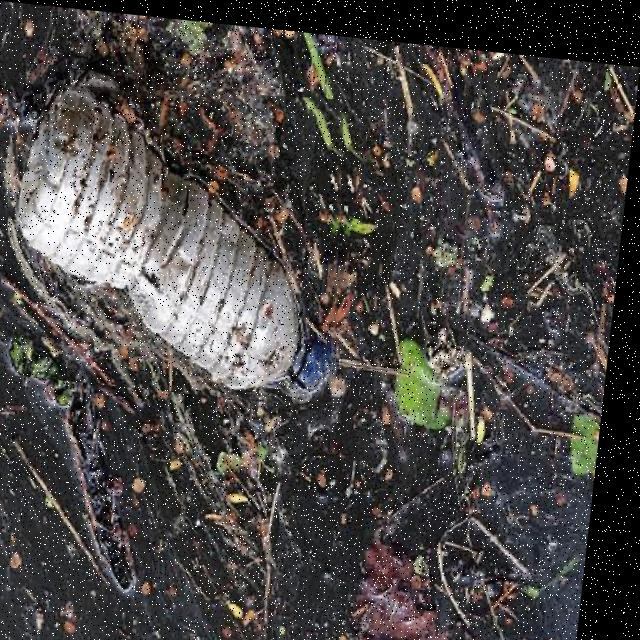plasticbottle: (0, 65, 368, 399)
